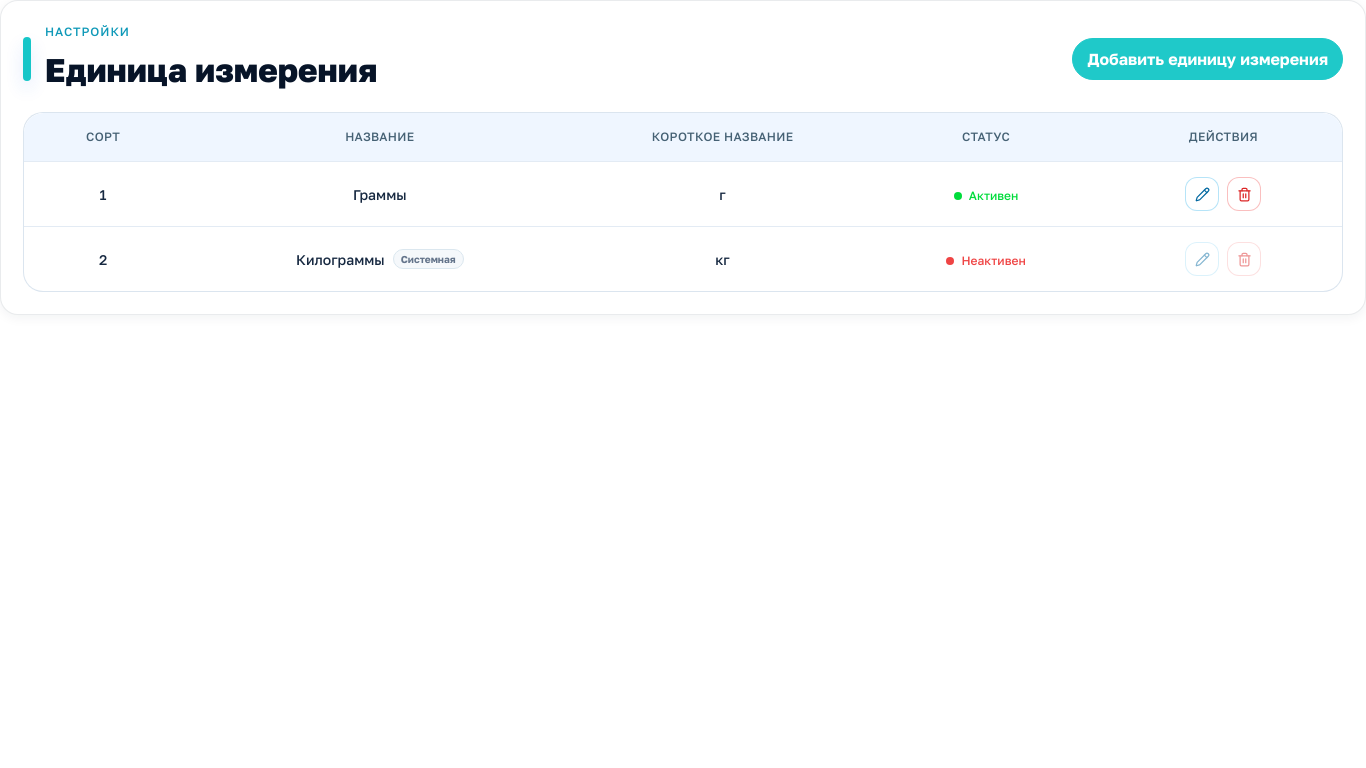
SettingsUnitsPage — real owner mutations and truthful errors › 403 edit keeps canonical values, no fake status flip
The width and height of the screenshot is (1366, 768).
Expected: the text "Граммы" is shown, [353,184,407,205]
Click the button named "Редактировать" at (1202, 194), box [1185,177,1219,211]
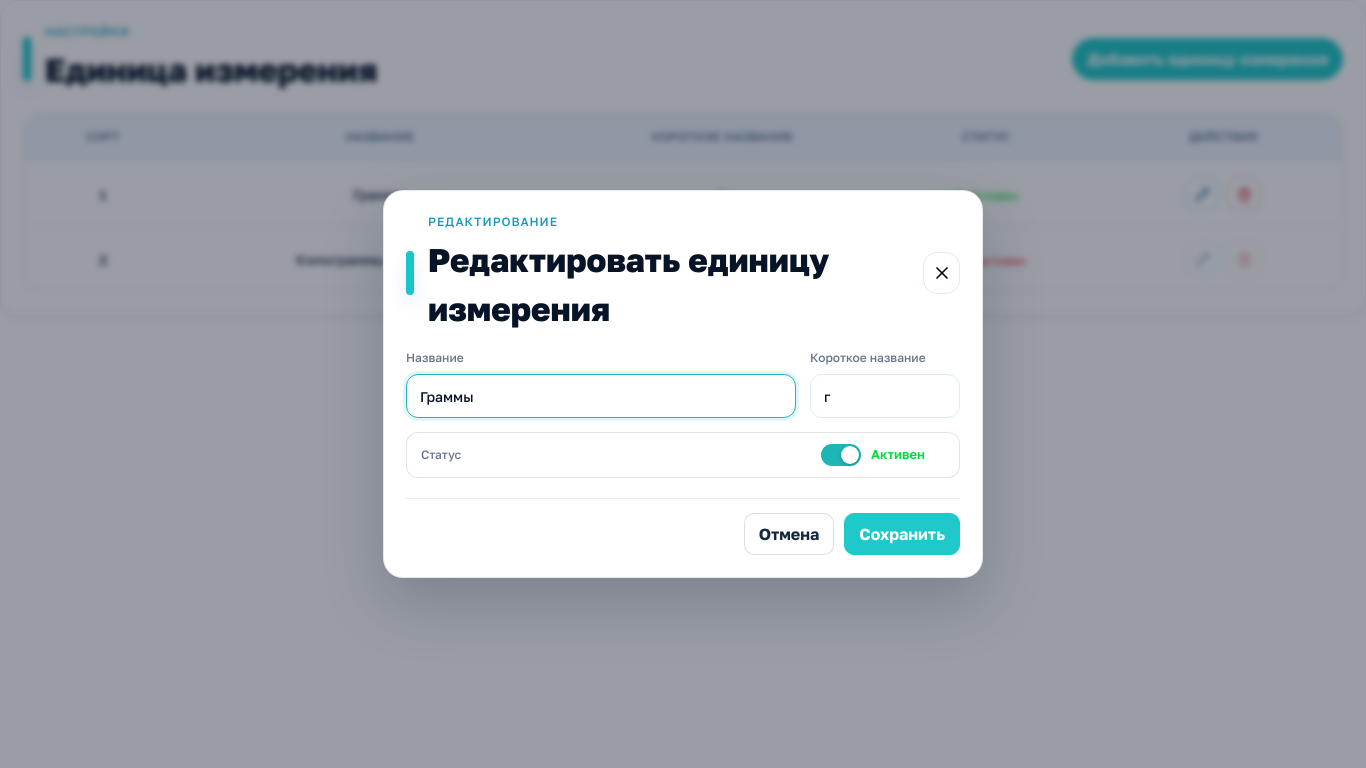
Click the button "Сохранить" at (902, 534), box [844,513,960,555]
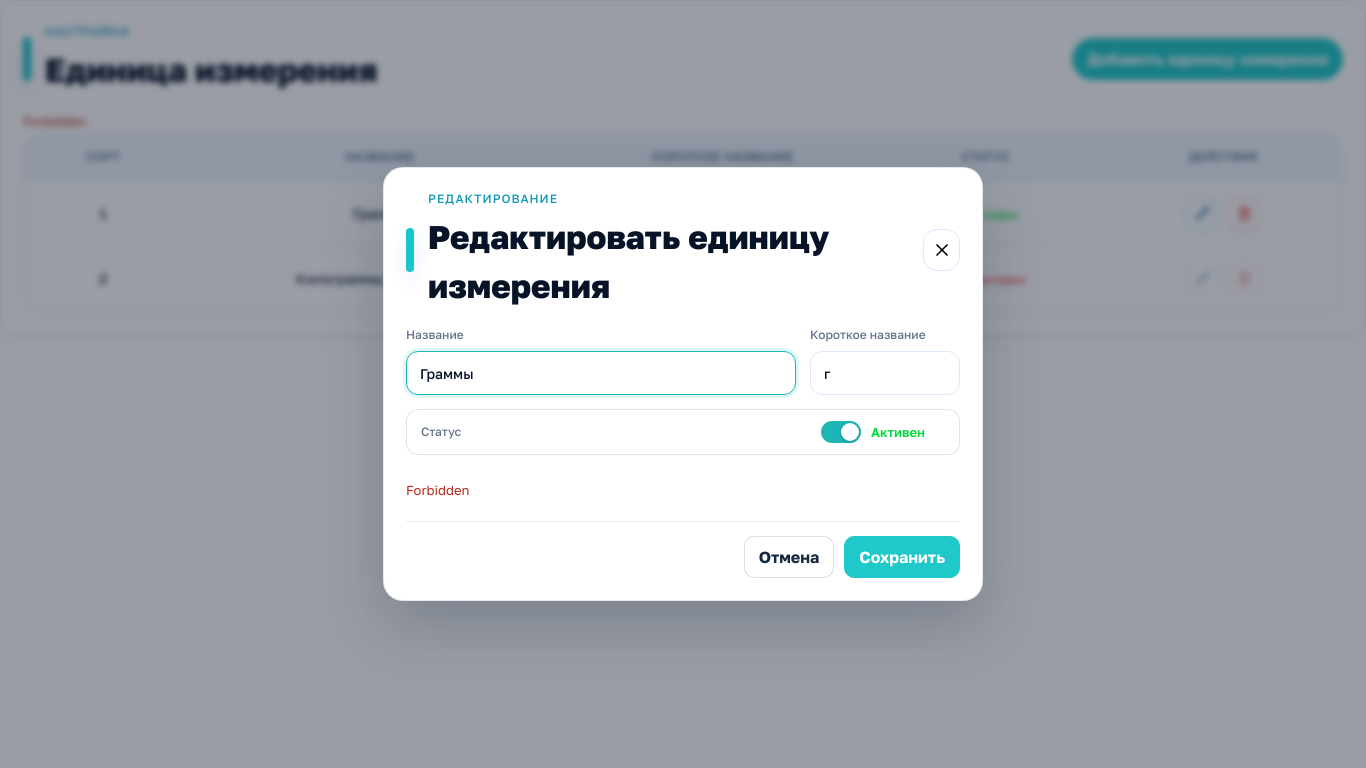
Expected: the dialog is shown, [383,167,983,601]
Expected: the text "Forbidden" is shown, [406,482,470,498]
